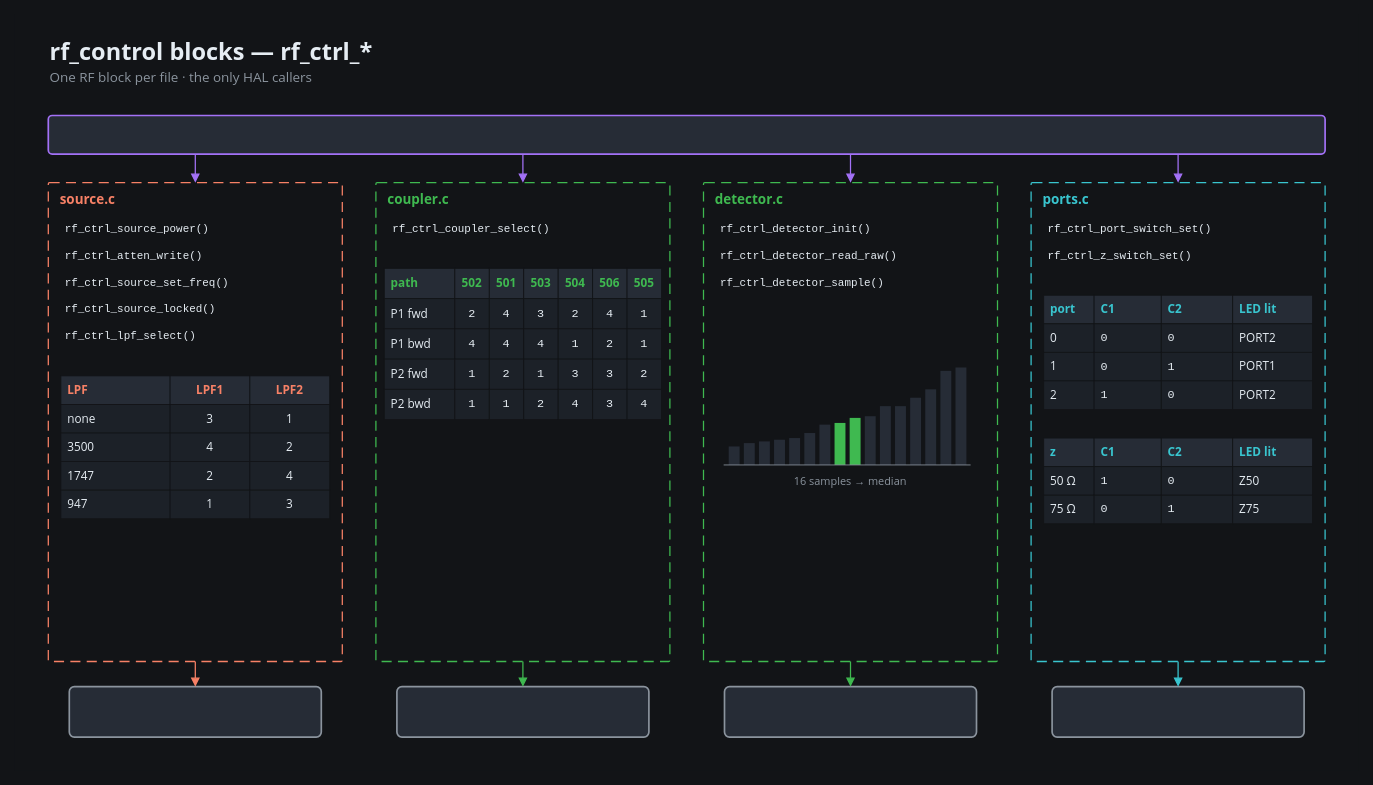
The diagram is 1373 pixels wide and 785 high, and some of its shapes have lost their labels. The centre of each missing label's shape, as x and y in pixels:
hal_ad8318: point 850,711
hal_max2871 · hal_hmc1119 hal_trf37a73 · hal_rf_switch: point 195,711
hal_rf_switch × 2: point 1178,711
hal_rf_switch × 6: point 522,711
rf_state_*: point 686,134
